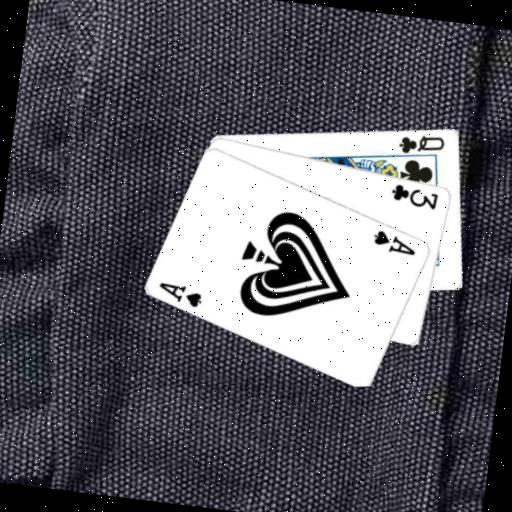3C: (388, 180, 441, 211)
AS: (154, 279, 206, 310), (370, 226, 421, 257)
QC: (395, 129, 448, 160)
